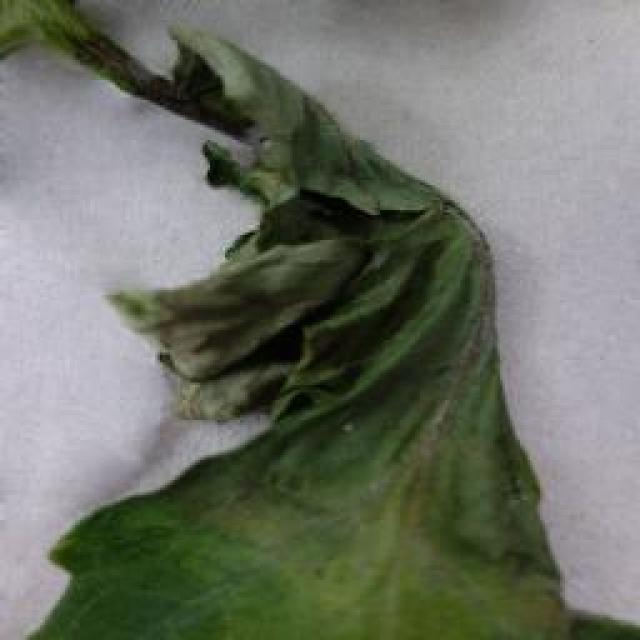Tomato___Late_blight: (0, 0, 638, 638)
